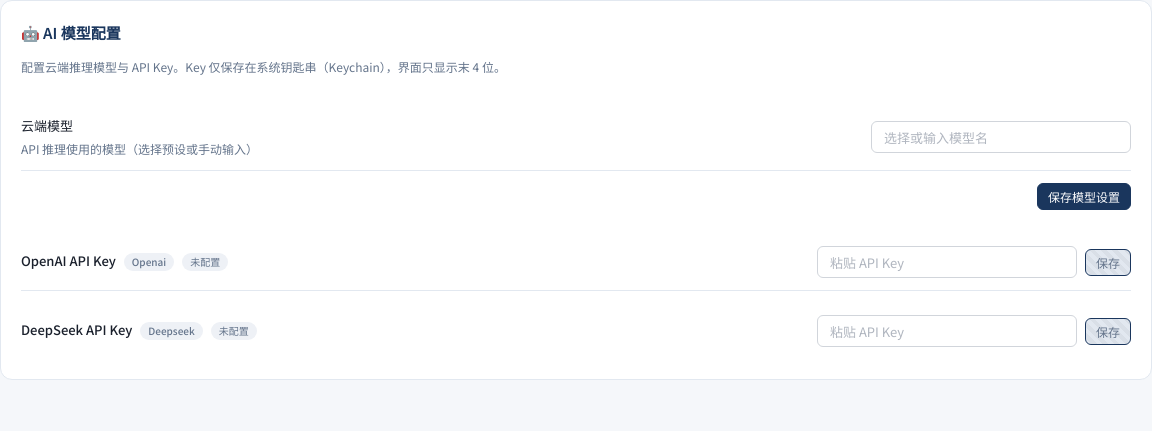
Scenario: CloudApiKeySection › surfaces save errors in the section error area
Expected: the text "未配置" is shown 2 times, [182,253,228,271]; [211,322,257,340]
Type "sk-proj-abcdefghijklmnop" into the password field named "OpenAI API Key 输入框" at point(947, 262), box [817,246,1077,278]
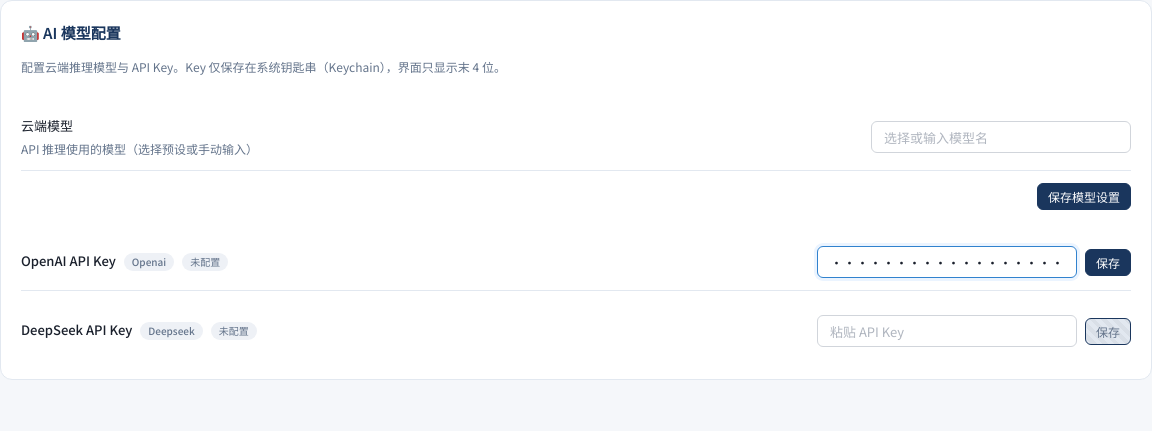
Click the 1st button "保存" at point(1108, 262), box [1085,249,1131,276]
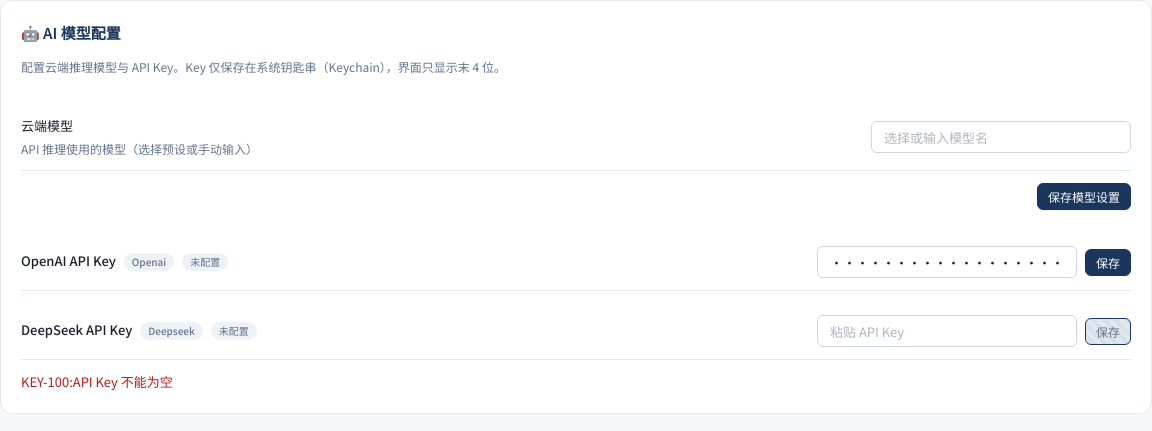
Result: the message reads "KEY-100:API Key 不能为空" at [21,372,173,391]
